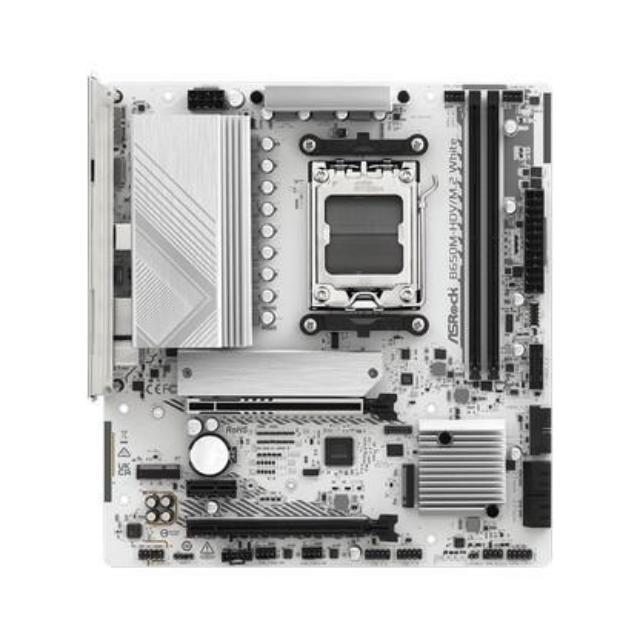Mainboard: (82, 69, 558, 572)
